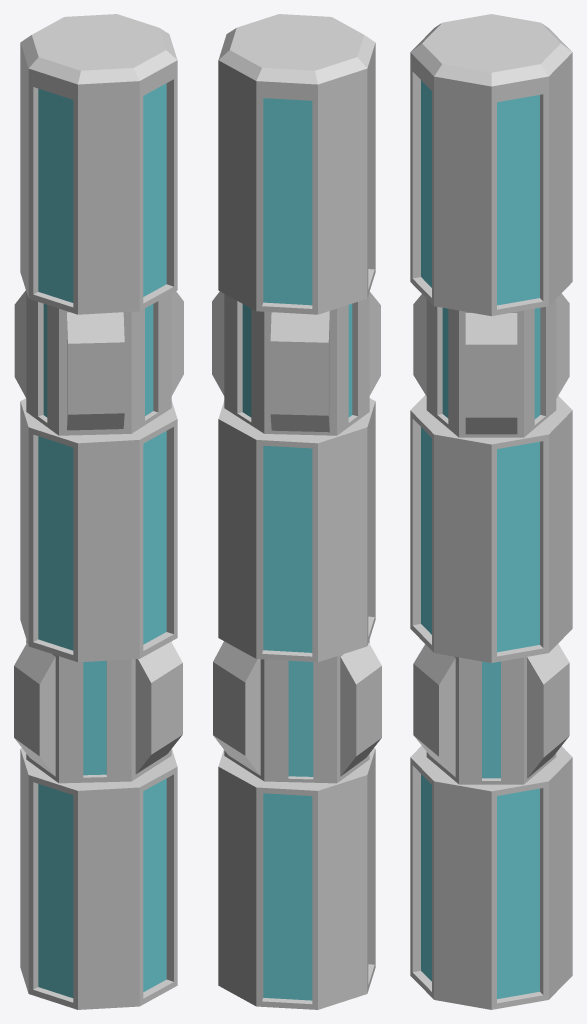
Rendered from BuildingF.fbx.
3 renders of one model, left to right at view 1: azimuth 30°, elevation 25°; view 2: azimuth 150°, elevation 25°; view 3: azimuth 270°, elevation 25°, orthographic.
Parts seen in each view (by area): view 1: Cylinder.001; view 2: Cylinder.001; view 3: Cylinder.001.
Boxes of the visible parts, x1,y1,x2,y2 form: Cylinder.001: [14, 14, 183, 1009]; Cylinder.001: [212, 14, 381, 1009]; Cylinder.001: [410, 14, 572, 1009].
Size of the model in its own units: 2038 by 12637 by 1994.
